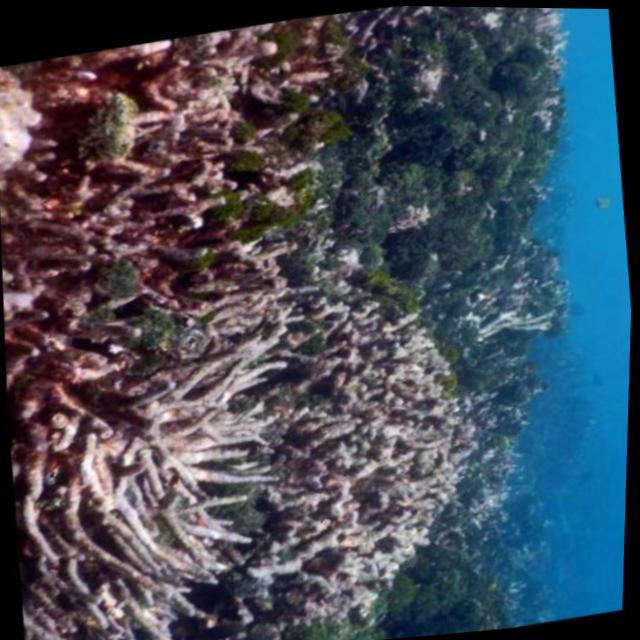Dead Coral: (18, 301, 493, 640)
